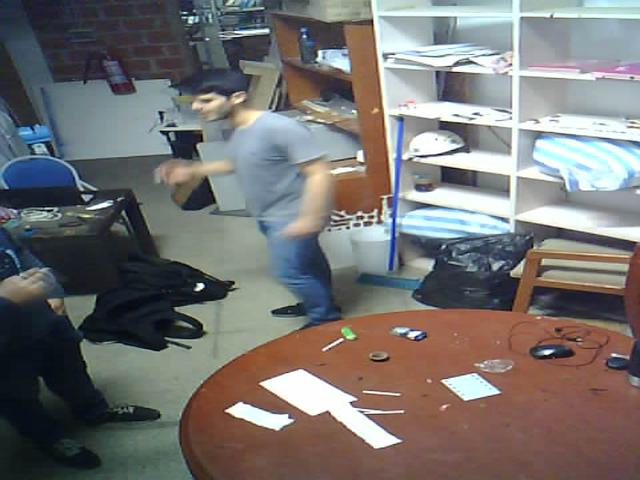person: (144, 52, 392, 346), (3, 195, 185, 480)
